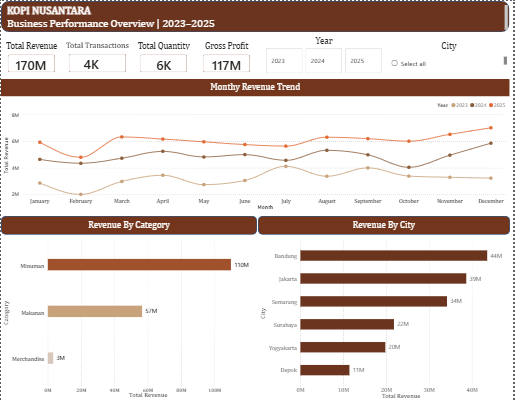

The dashboard page shown, as its layout file describes it:
{"tool":"powerbi","page":{"name":"Overview","canvas":[1280,1000],"ordinal":0},"visuals":[{"type":"cardVisual","title":"Total Revenue","fields":{"Data":["fact_transactions.Total Revenue"]},"box":[0,100,152.9,95.4],"z":0},{"type":"cardVisual","title":"Total Transactions","fields":{"Data":["fact_transactions.Total Transactions"]},"box":[152.9,100,177,95.4],"z":1000},{"type":"cardVisual","title":"Total Quantity","fields":{"Data":["fact_transactions.Total Quantity"]},"box":[329.9,100,152.9,95.4],"z":2000},{"type":"cardVisual","title":"Gross Profit","fields":{"Data":["fact_transactions.Gross Profit"]},"box":[488.5,100,152.9,95.4],"z":3000},{"type":"shape","box":[0,0,1270.8,77.8],"z":4000},{"type":"textbox","box":[9.6,3.8,1261.5,73.1],"z":5000},{"type":"lineChart","fields":{"Y":["fact_transactions.Total Revenue"],"Category":["dim_date.Date.Variation.Date Hierarchy.Month"],"Series":["dim_date.Date.Variation.Date Hierarchy.Year"]},"box":[0,238.9,1270.8,288.9],"z":6000},{"type":"shape","box":[0,195.8,1270.8,43.1],"z":7000},{"type":"clusteredBarChart","fields":{"Category":["dim_product.Category"],"Y":["fact_transactions.Total Revenue"]},"box":[0,585.7,640.8,414.3],"z":8000},{"type":"shape","box":[0,538.3,640,46.7],"z":9000},{"type":"barChart","fields":{"Category":["dim_outlet.City"],"Y":["fact_transactions.Total Revenue"]},"box":[641.7,586.7,630,413.3],"z":10000},{"type":"shape","box":[641.7,538.3,630,46.7],"z":11000},{"type":"advancedSlicerVisual","fields":{"Values":["dim_date.Date.Variation.Date Hierarchy.Year"]},"box":[656.3,88.5,300,98.9],"z":12000},{"type":"listSlicer","fields":{"Values":["dim_outlet.City"]},"box":[970.6,100,300,70.6],"z":13000}]}

Visuals, with their boxes in screenshot pixels (x1, y1, x2, y2), scaled from the page's 1280x1000 canvas onto the 515x400 screenshot:
"Total Revenue" cardVisual: BBox(0, 40, 62, 78)
"Total Transactions" cardVisual: BBox(62, 40, 133, 78)
"Total Quantity" cardVisual: BBox(133, 40, 194, 78)
"Gross Profit" cardVisual: BBox(197, 40, 258, 78)
shape: BBox(0, 0, 511, 31)
textbox: BBox(4, 2, 511, 31)
lineChart - fact_transactions.Total Revenue x dim_date.Date.Variation.Date Hierarchy.Month: BBox(0, 96, 511, 211)
shape: BBox(0, 78, 511, 96)
clusteredBarChart - dim_product.Category x fact_transactions.Total Revenue: BBox(0, 234, 258, 399)
shape: BBox(0, 215, 258, 234)
barChart - dim_outlet.City x fact_transactions.Total Revenue: BBox(258, 235, 512, 399)
shape: BBox(258, 215, 512, 234)
advancedSlicerVisual - dim_date.Date.Variation.Date Hierarchy.Year: BBox(264, 35, 385, 75)
listSlicer - dim_outlet.City: BBox(391, 40, 511, 68)
